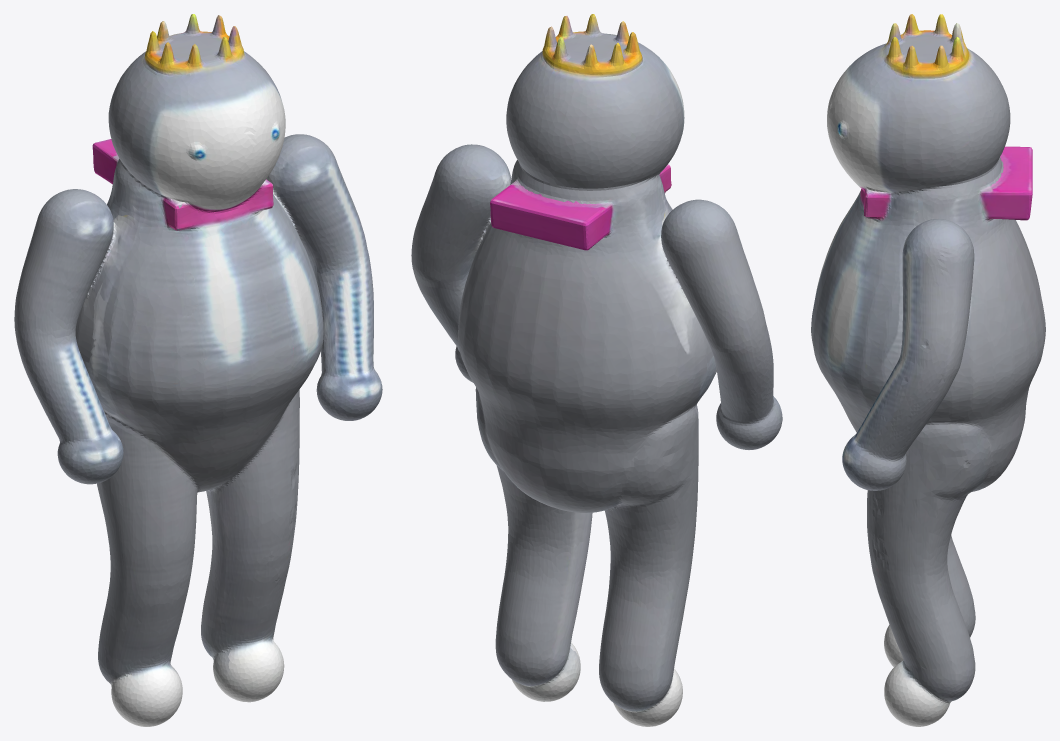
File: creature-047.glb
3 renders of one model, left to right at view 1: azimuth 30°, elevation 25°; view 2: azimuth 150°, elevation 25°; view 3: azimuth 270°, elevation 25°, orthographic. The views are drawn at different scales.
Parts seen in each view (by area): view 1: tmp63ji_dk2.ply; view 2: tmp63ji_dk2.ply; view 3: tmp63ji_dk2.ply.
Part boxes in pixels (<box>): tmp63ji_dk2.ply: <box>14,14,382,726</box>; tmp63ji_dk2.ply: <box>411,14,782,726</box>; tmp63ji_dk2.ply: <box>811,14,1045,726</box>.
Size of the model in its own units: 1.06 by 1.99 by 0.6329.
Materials: 1 (1 with a texture image).
